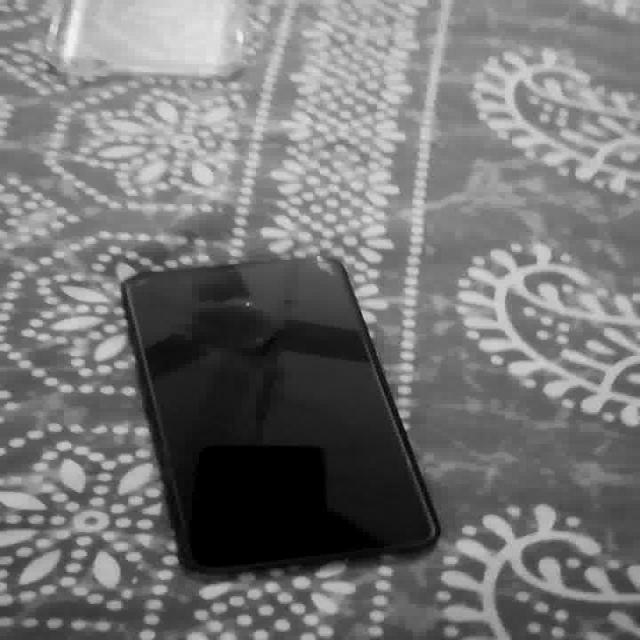fake: (120, 245, 442, 586)
